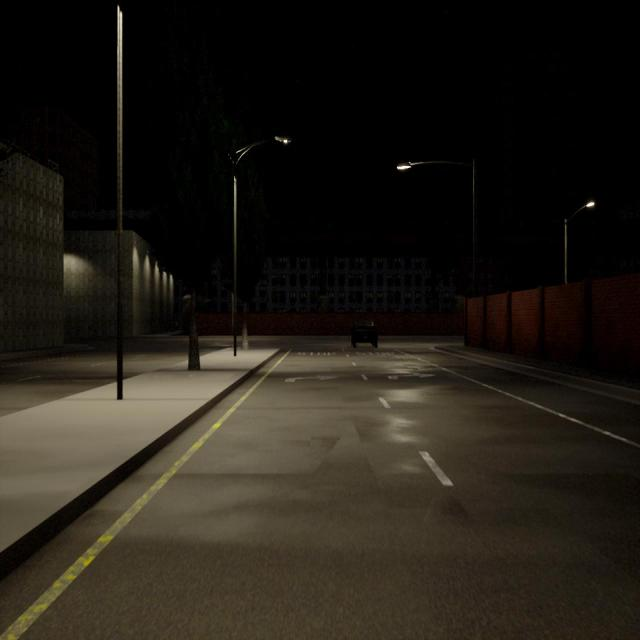Vehicle: (351, 320, 377, 347)
